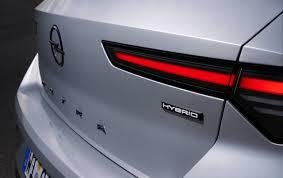opel: (48, 24, 69, 70)
